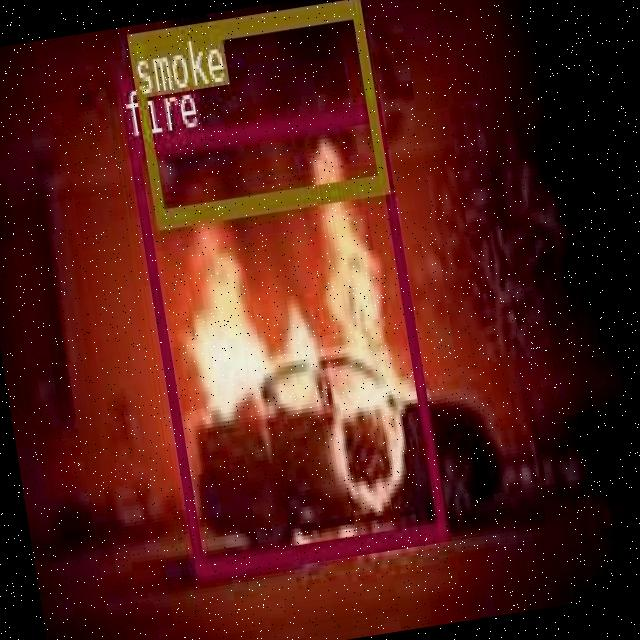fire: (126, 98, 447, 576)
smoke: (125, 0, 388, 226)
